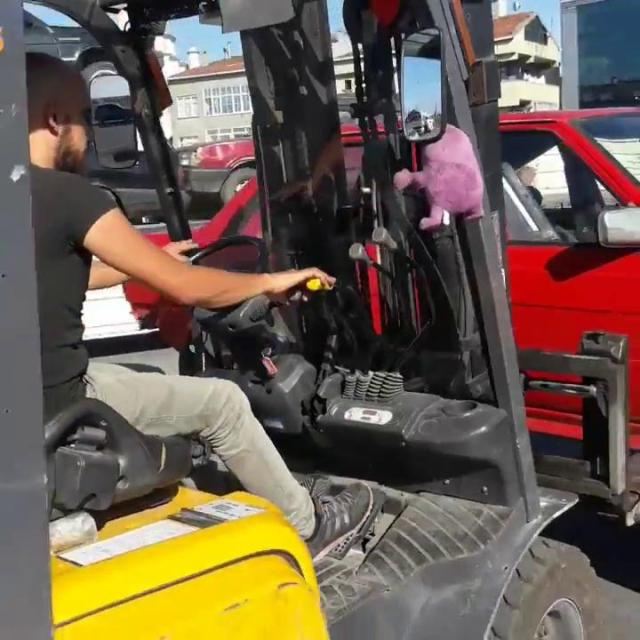forklift: (360, 242, 607, 633)
person: (13, 46, 385, 569)
